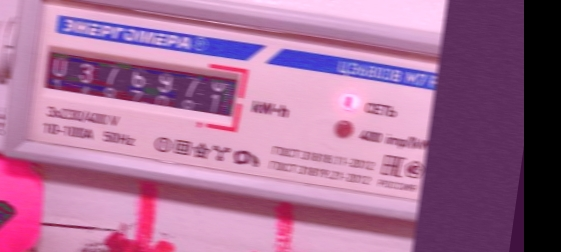0: (50, 55, 68, 79)
1: (207, 92, 219, 115)
3: (77, 62, 93, 84)
6: (129, 65, 147, 90)
7: (103, 62, 120, 87), (183, 73, 200, 98)
9: (156, 71, 173, 94)
screen: (30, 36, 252, 137)
